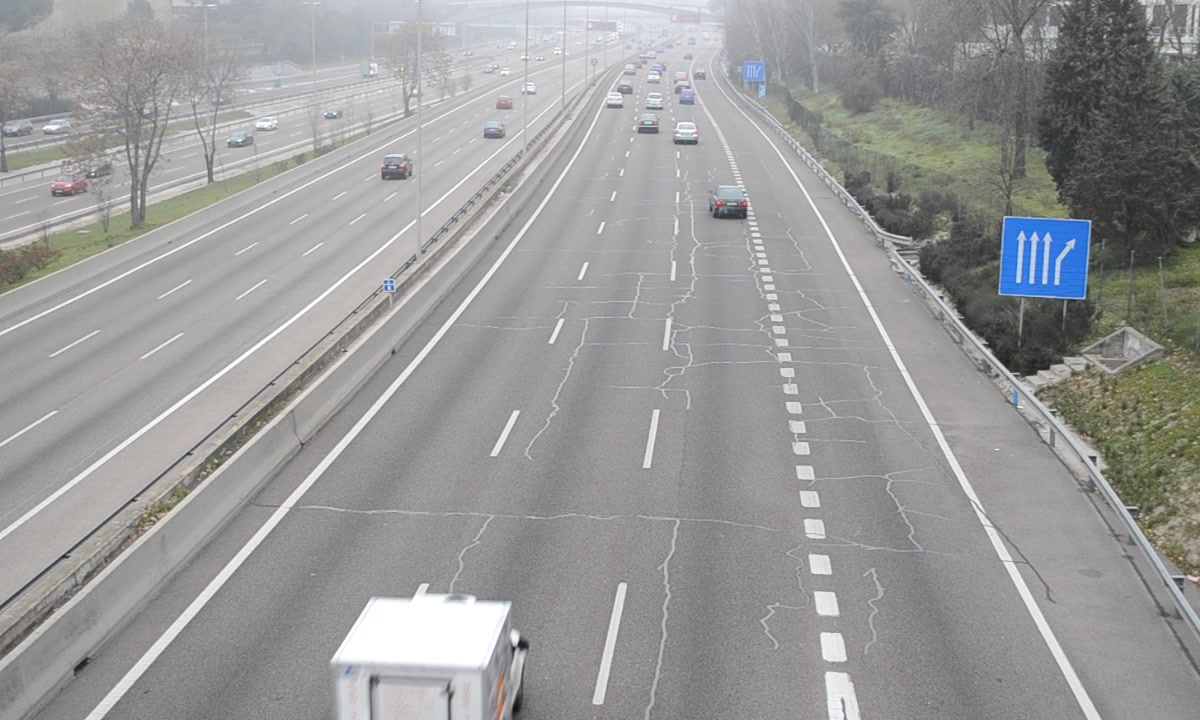car: (709, 184, 748, 219)
small-truck: (332, 596, 522, 720)
